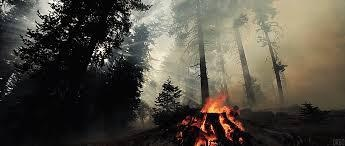fire: (186, 93, 246, 144)
